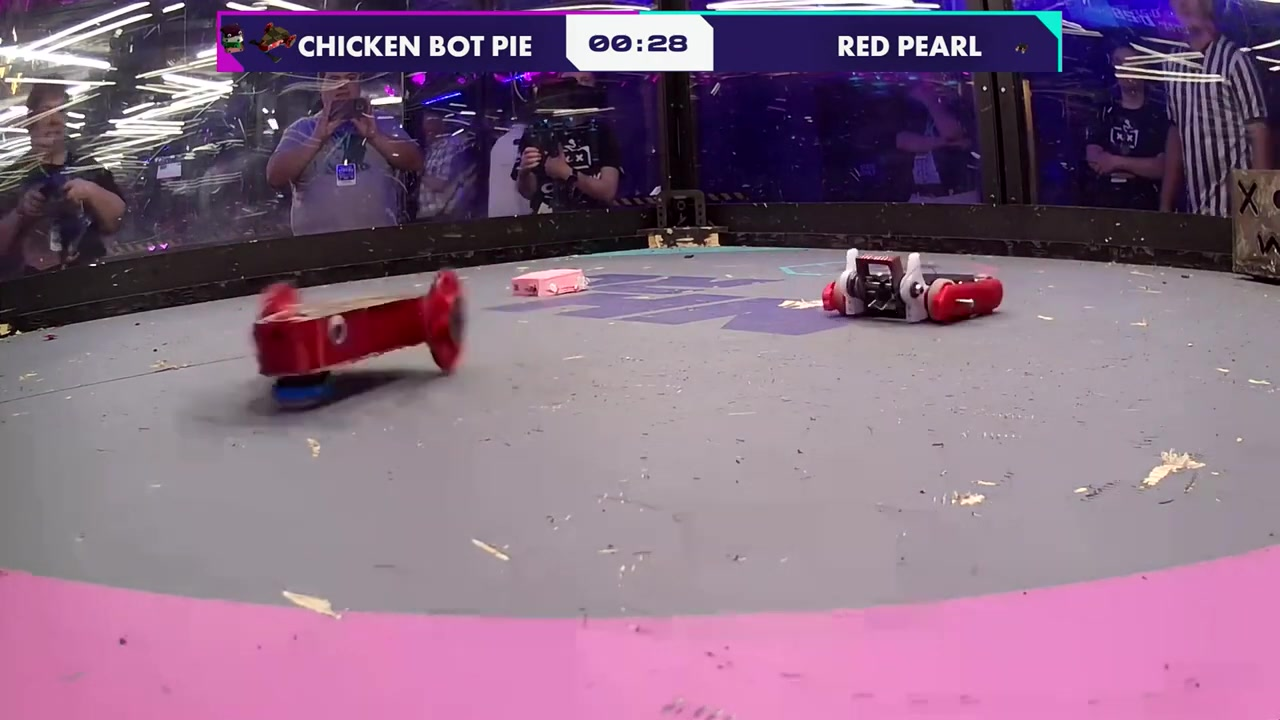combatbot: (248, 269, 467, 376), (825, 252, 1006, 324)
housebot: (1231, 170, 1280, 288)
minibot: (510, 266, 589, 298)
